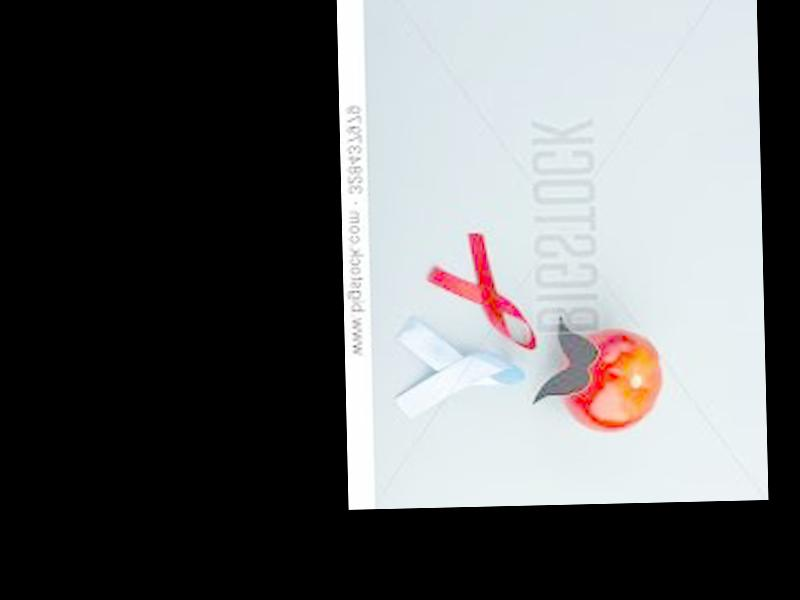Tomato: (559, 327, 664, 432)
